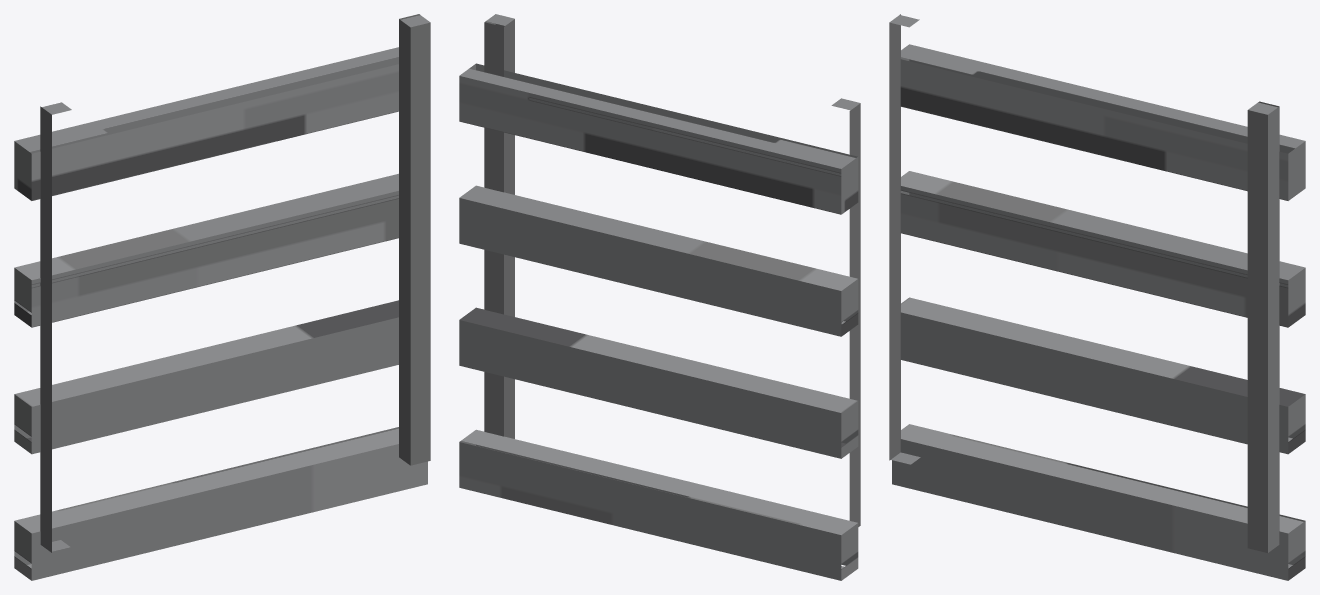
3 views of the same model, side by side, from view 1: azimuth 30°, elevation 25°; view 2: azimuth 150°, elevation 25°; view 3: azimuth 330°, elevation 25° (orthographic). The views are drawn at different scales.
Bounding box in the file's own units: 0.8492 × 0.9671 × 0.1074.
